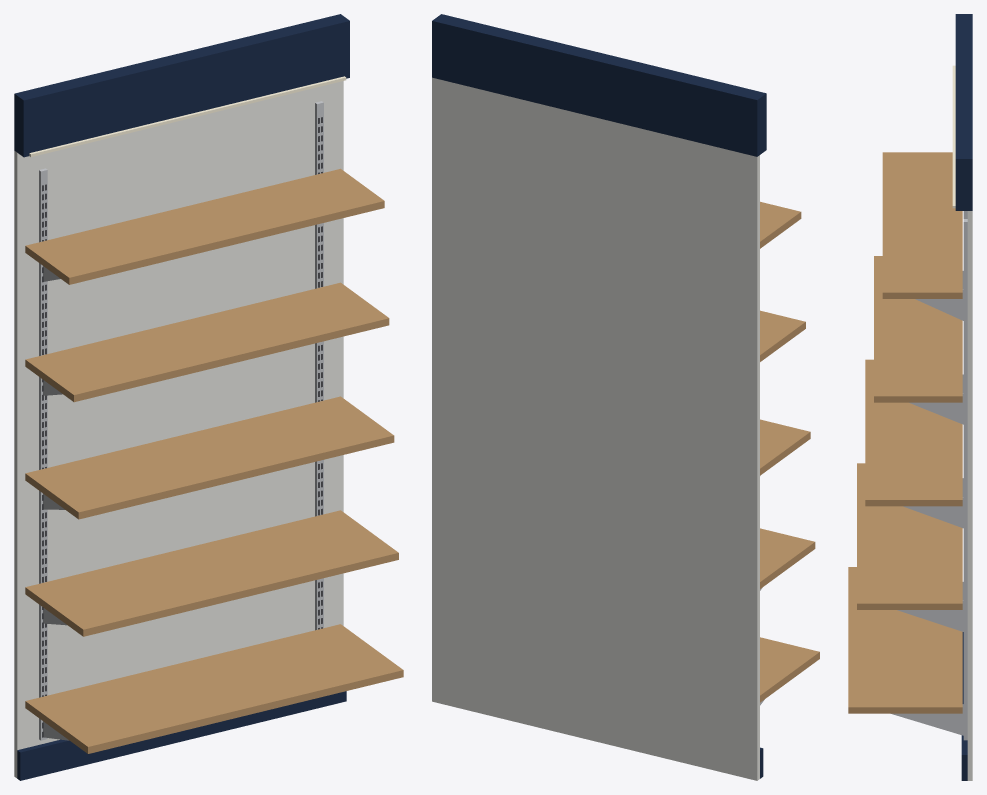
The model's file is 063_wall_bay_retail_shelving.glb.
3 views of the same model, side by side, from view 1: azimuth 30°, elevation 25°; view 2: azimuth 150°, elevation 25°; view 3: azimuth 270°, elevation 25° (orthographic). The views are drawn at different scales.
Parts seen in each view (by area): view 1: 000_wall_backer_panel, 005_shelf_1, 020_top_fascia_signage, 008_shelf_2, 011_shelf_3, 014_shelf_4, 017_shelf_5, 022_skirting, 001_twin_slot_standard, 003_twin_slot_standard, 021_fascia_led, 002_standard_slots_32_mm_pitch (+1 smaller); view 2: 000_wall_backer_panel, 020_top_fascia_signage, 005_shelf_1, 008_shelf_2, 011_shelf_3, 014_shelf_4, 017_shelf_5; view 3: 005_shelf_1, 017_shelf_5, 008_shelf_2, 011_shelf_3, 014_shelf_4, 020_top_fascia_signage, 000_wall_backer_panel, 003_twin_slot_standard, 007_shelf_bracket, 010_shelf_bracket, 013_shelf_bracket, 016_shelf_bracket (+3 smaller).
Boxes of the visible parts, left/top/right/bottom form: 000_wall_backer_panel: left=14, top=81, right=343, bottom=778; 005_shelf_1: left=25, top=624, right=403, bottom=753; 020_top_fascia_signage: left=14, top=14, right=349, bottom=157; 008_shelf_2: left=25, top=510, right=398, bottom=636; 011_shelf_3: left=25, top=396, right=394, bottom=519; 014_shelf_4: left=25, top=282, right=389, bottom=402; 017_shelf_5: left=25, top=168, right=384, bottom=284; 022_skirting: left=17, top=691, right=346, bottom=780; 001_twin_slot_standard: left=39, top=168, right=47, bottom=740; 003_twin_slot_standard: left=315, top=101, right=323, bottom=630; 021_fascia_led: left=29, top=76, right=346, bottom=156; 002_standard_slots_32_mm_pitch: left=42, top=184, right=46, bottom=737; 000_wall_backer_panel: left=432, top=77, right=759, bottom=780; 020_top_fascia_signage: left=432, top=14, right=766, bottom=156; 005_shelf_1: left=760, top=637, right=819, bottom=702; 008_shelf_2: left=760, top=528, right=815, bottom=588; 011_shelf_3: left=760, top=419, right=810, bottom=475; 014_shelf_4: left=760, top=310, right=805, bottom=361; 017_shelf_5: left=760, top=201, right=801, bottom=248; 005_shelf_1: left=848, top=567, right=962, bottom=713; 017_shelf_5: left=882, top=152, right=962, bottom=298; 008_shelf_2: left=857, top=463, right=962, bottom=609; 011_shelf_3: left=865, top=359, right=962, bottom=506; 014_shelf_4: left=874, top=256, right=962, bottom=402; 020_top_fascia_signage: left=955, top=14, right=972, bottom=210; 000_wall_backer_panel: left=967, top=211, right=972, bottom=780; 003_twin_slot_standard: left=963, top=219, right=967, bottom=740; 007_shelf_bracket: left=891, top=704, right=963, bottom=735; 010_shelf_bracket: left=897, top=600, right=963, bottom=631; 013_shelf_bracket: left=903, top=497, right=963, bottom=528; 016_shelf_bracket: left=909, top=393, right=963, bottom=424.
Size of the model in its own units: 1.2 by 2.4 by 0.435.
